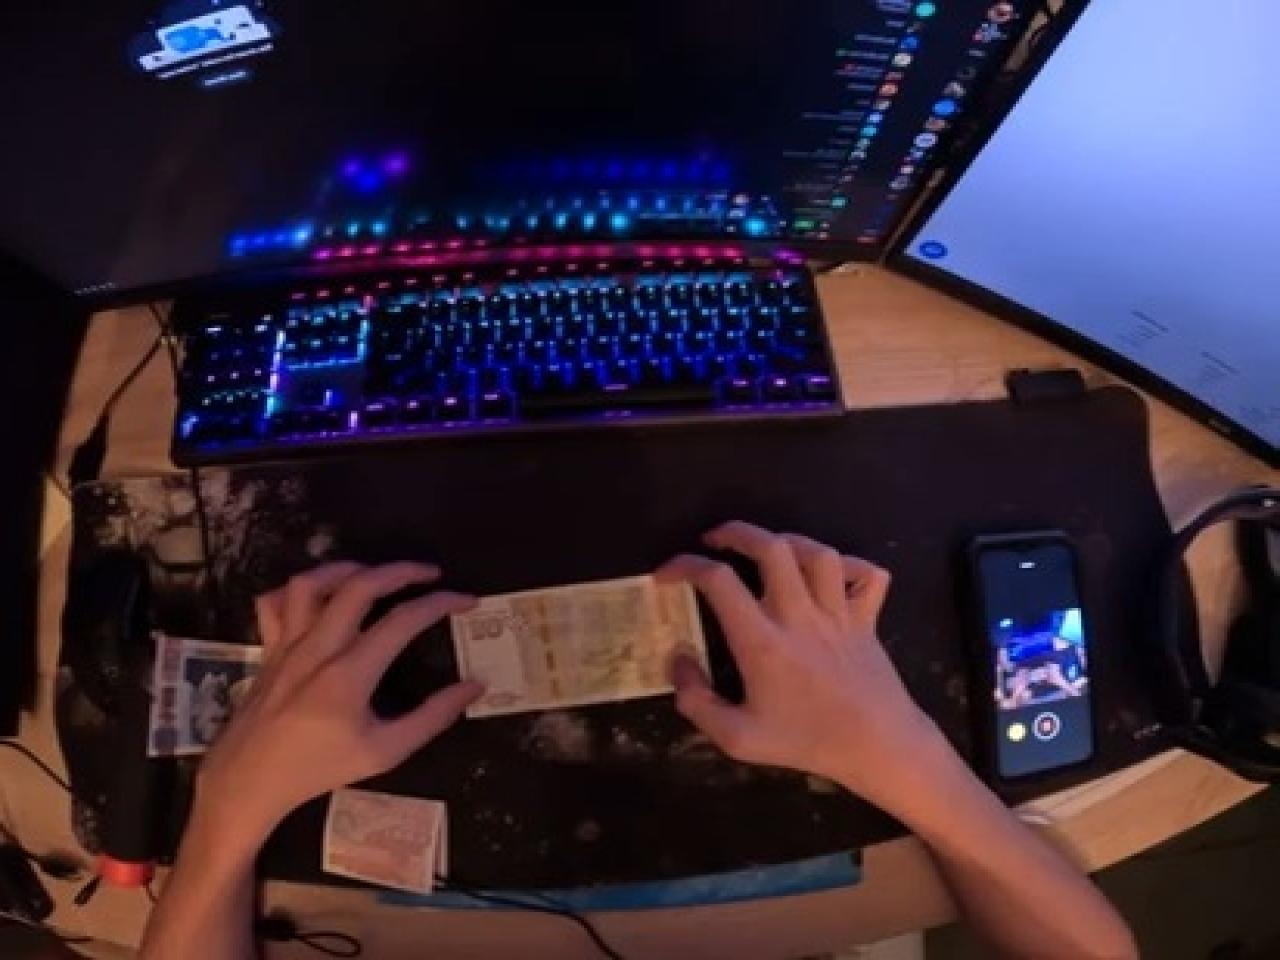50leva: (454, 576, 695, 720)
